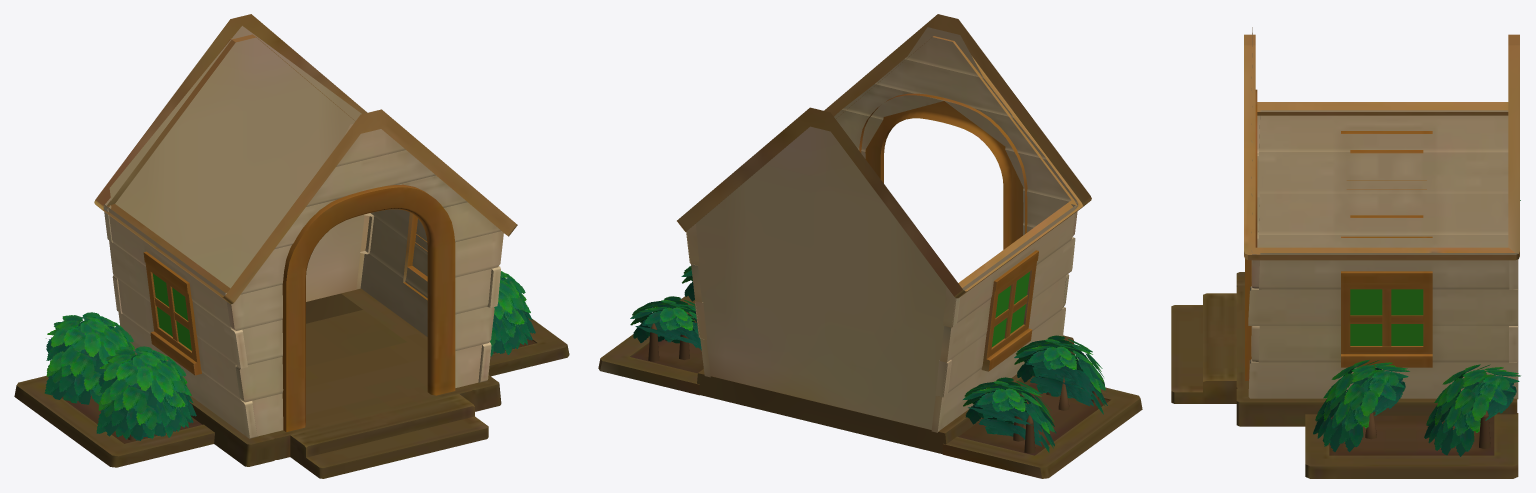
Rendered from wall-pa00-standard.glb.
3 renders of one model, left to right at view 1: azimuth 30°, elevation 25°; view 2: azimuth 150°, elevation 25°; view 3: azimuth 270°, elevation 25°, orthographic. The views are drawn at different scales.
Bounding box in the file's own units: 44.02 × 29.65 × 27.48.
Materials: 3 (2 with a texture image).
